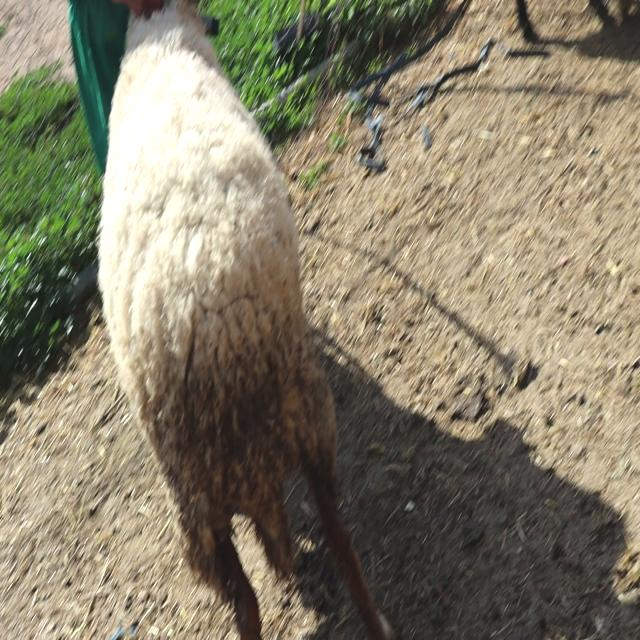Score_5: (98, 0, 394, 639)
